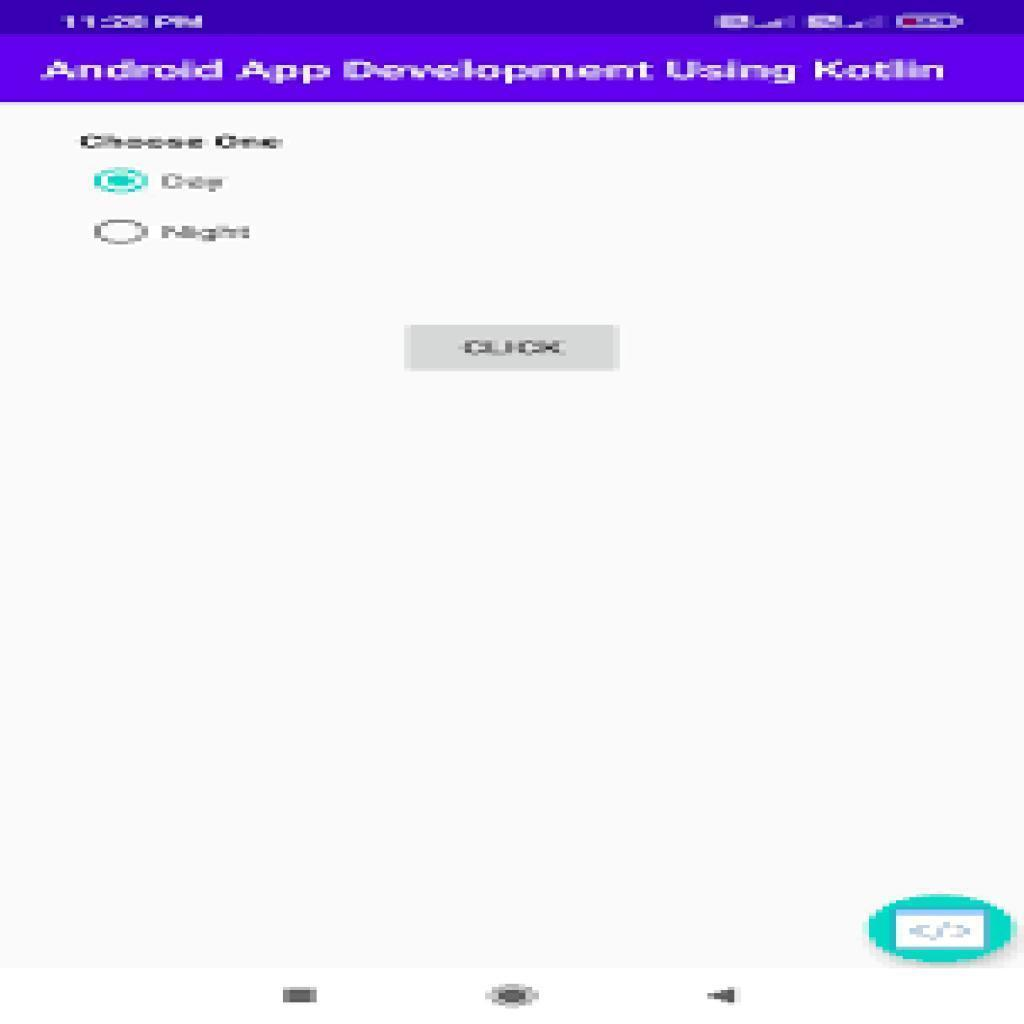button: (405, 322, 619, 372)
icon: (891, 903, 988, 952)
radio: (92, 216, 151, 250), (92, 164, 152, 196)
